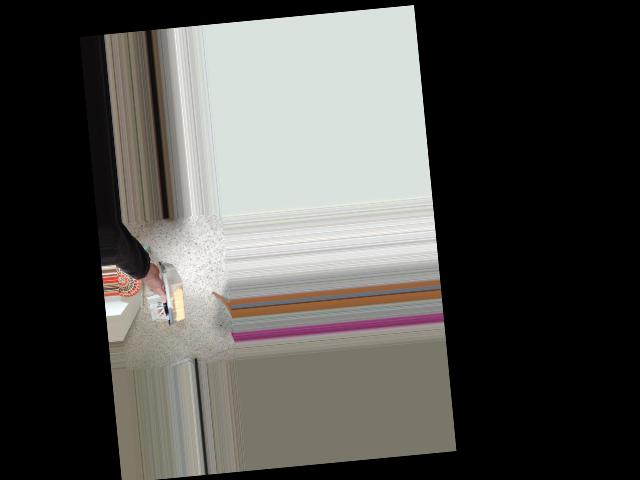cheese: (128, 247, 202, 323)
